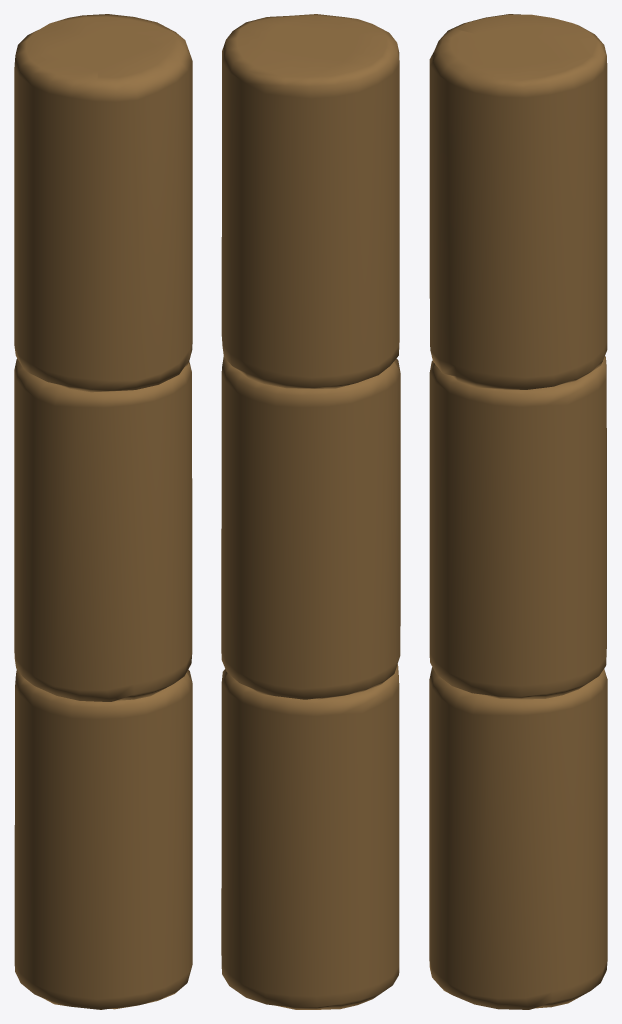
The model's file is Pillar_Round_01_Small_x3_Lod0.fbx.
3 renders of one model, left to right at view 1: azimuth 30°, elevation 25°; view 2: azimuth 150°, elevation 25°; view 3: azimuth 270°, elevation 25°, orthographic.
Parts seen in each view (by area): view 1: Pillar_Round_01_Small_x3_Lod0; view 2: Pillar_Round_01_Small_x3_Lod0; view 3: Pillar_Round_01_Small_x3_Lod0.
Part boxes in pixels (x1,y1,x2,y2): Pillar_Round_01_Small_x3_Lod0: (14, 14, 192, 1009); Pillar_Round_01_Small_x3_Lod0: (221, 14, 400, 1009); Pillar_Round_01_Small_x3_Lod0: (429, 14, 607, 1009).
Size of the model in its own units: 78.6 by 451 by 78.48.
